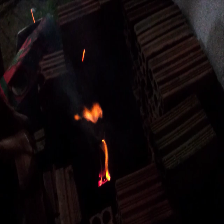fire_h: (97, 138, 111, 186)
fire_l: (83, 103, 103, 124), (31, 8, 36, 24), (81, 48, 85, 61), (74, 114, 80, 121)
